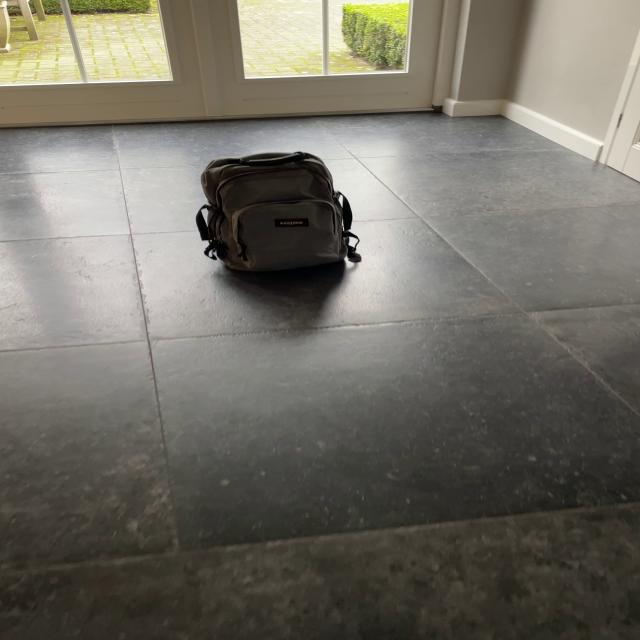backpack: (188, 144, 360, 277)
